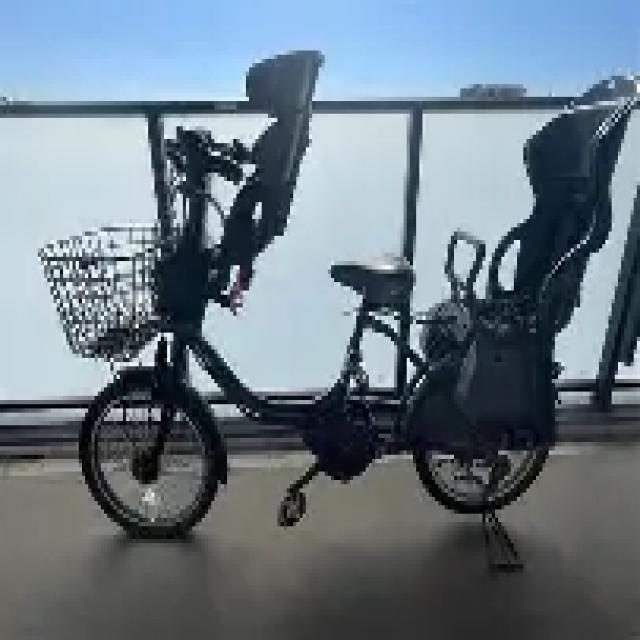basket: (36, 220, 182, 360)
childseat: (467, 69, 639, 446), (209, 47, 327, 285)
